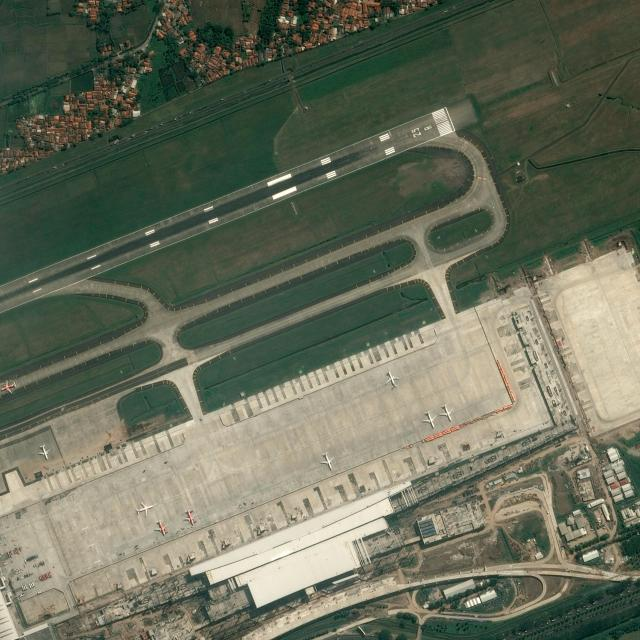aircraft: (319, 452, 335, 472), (135, 501, 154, 516), (422, 410, 436, 429), (384, 371, 398, 389), (440, 404, 454, 422), (183, 509, 197, 526), (37, 444, 51, 461), (154, 520, 168, 536), (0, 379, 16, 393)
